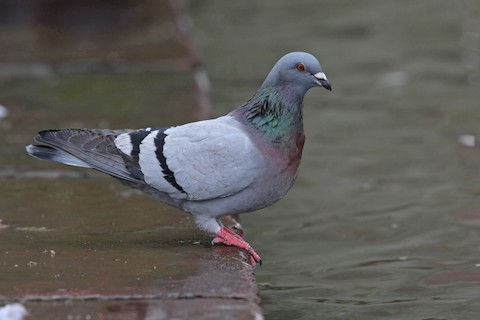pigeon: (21, 46, 336, 267)
